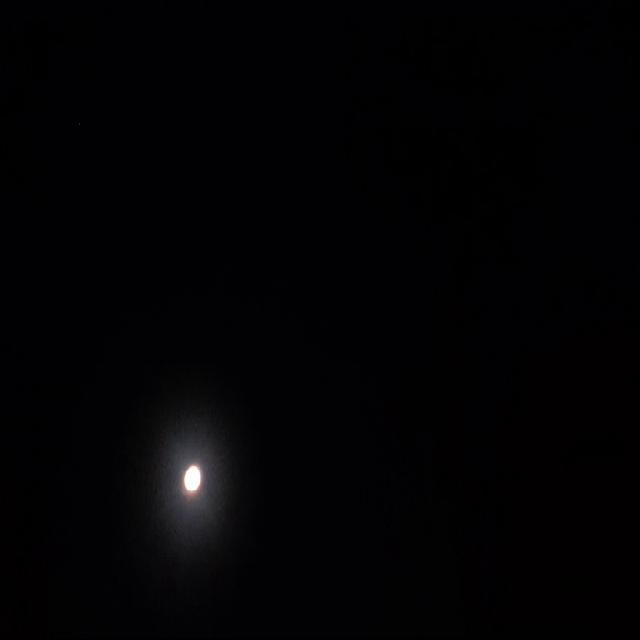moon: (177, 453, 197, 491)
